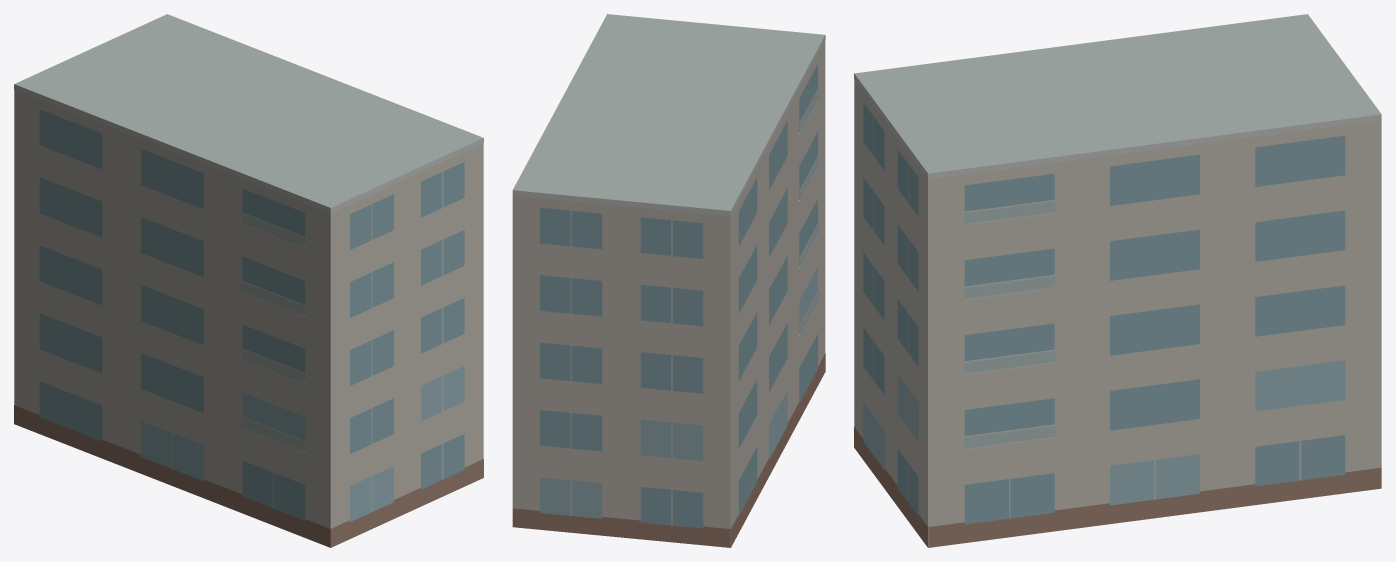
The model's file is survey-upis-32602908.glb.
3 renders of one model, left to right at view 1: azimuth 30°, elevation 25°; view 2: azimuth 150°, elevation 25°; view 3: azimuth 270°, elevation 25°, orthographic. The views are drawn at different scales.
Visible parts, largest first — view 1: survey-upis-32602908.tmp; view 2: survey-upis-32602908.tmp; view 3: survey-upis-32602908.tmp.
Part boxes in pixels (x1,y1,x2,y2): survey-upis-32602908.tmp: (14, 14, 483, 547); survey-upis-32602908.tmp: (512, 14, 825, 547); survey-upis-32602908.tmp: (854, 14, 1381, 547).
Size of the model in its own units: 14.1 by 15.4 by 19.68.
